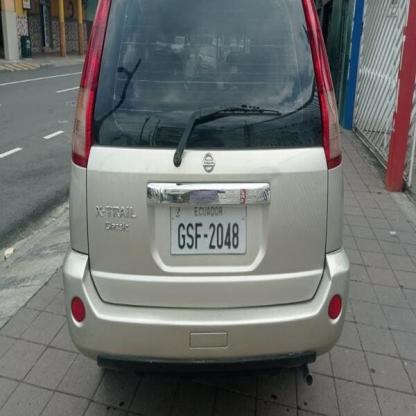Placa: (167, 202, 248, 257)
